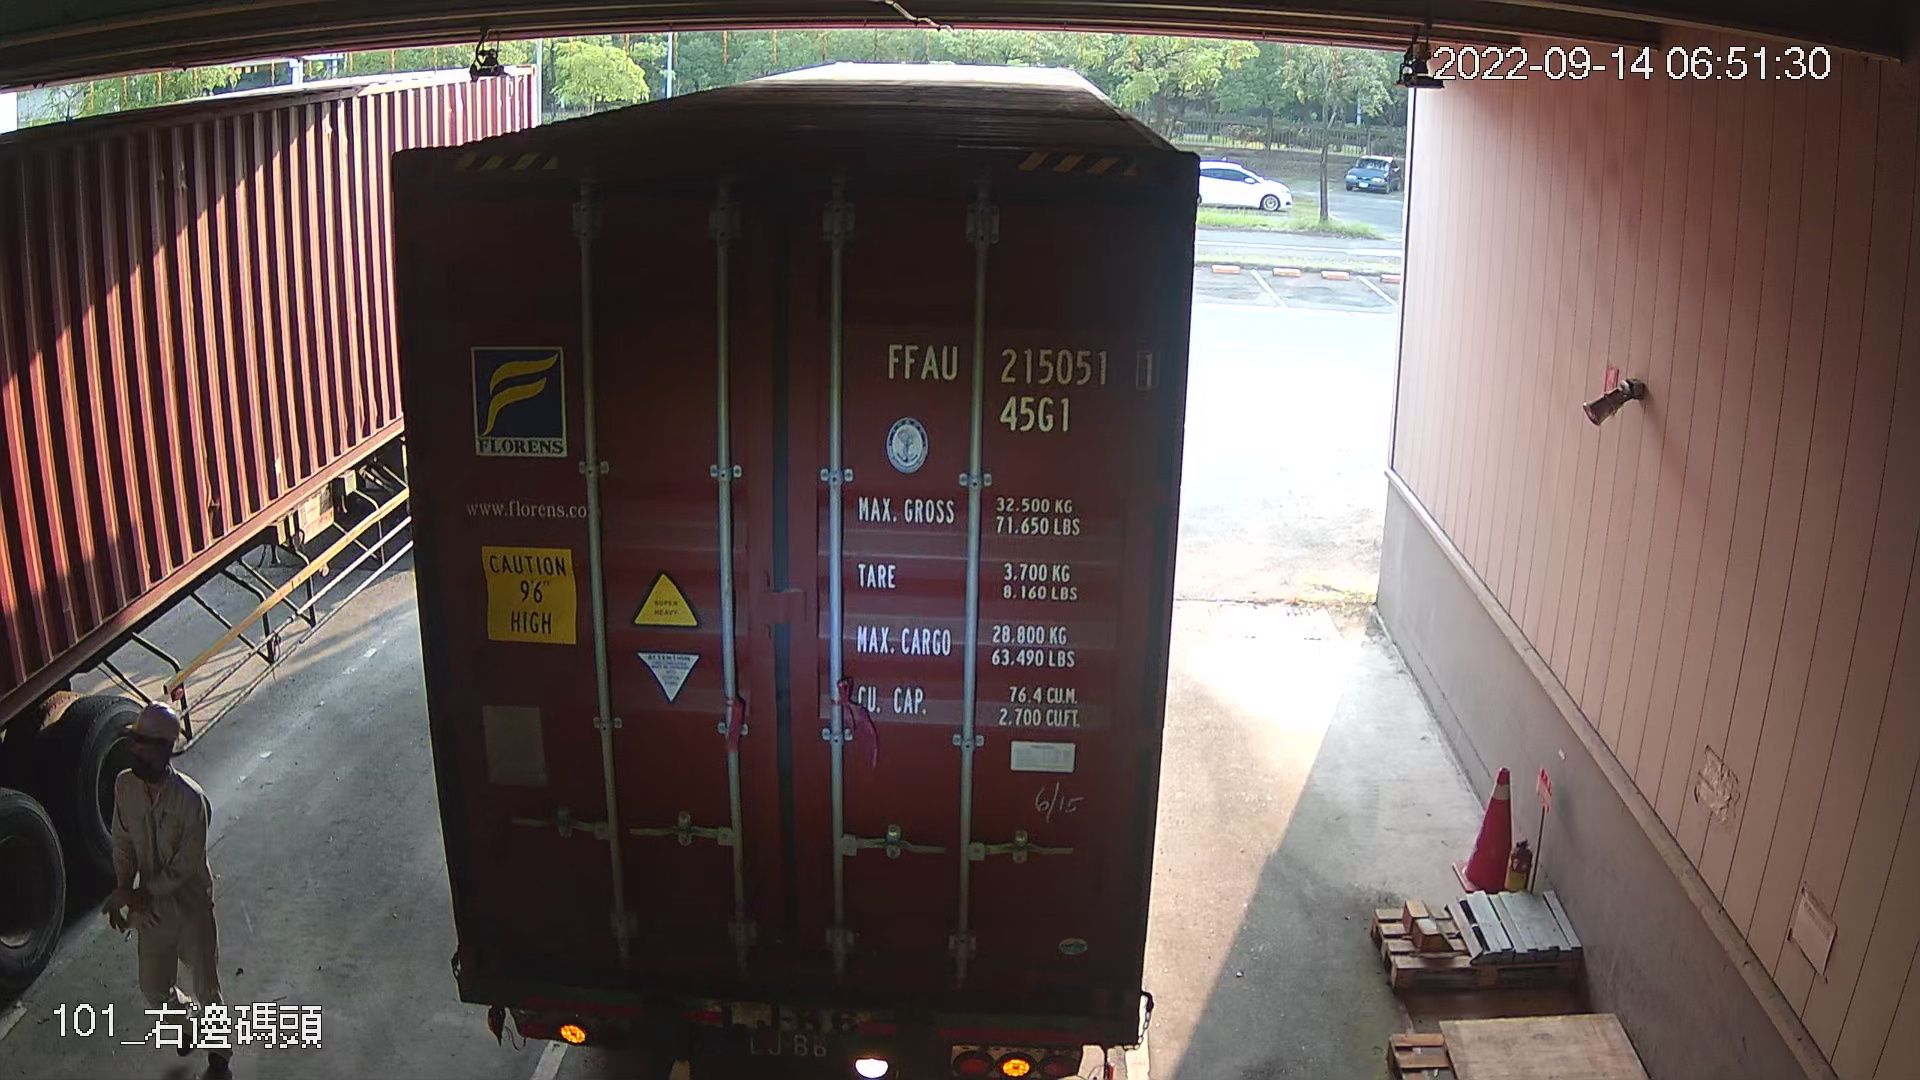container: (872, 332, 1167, 440)
